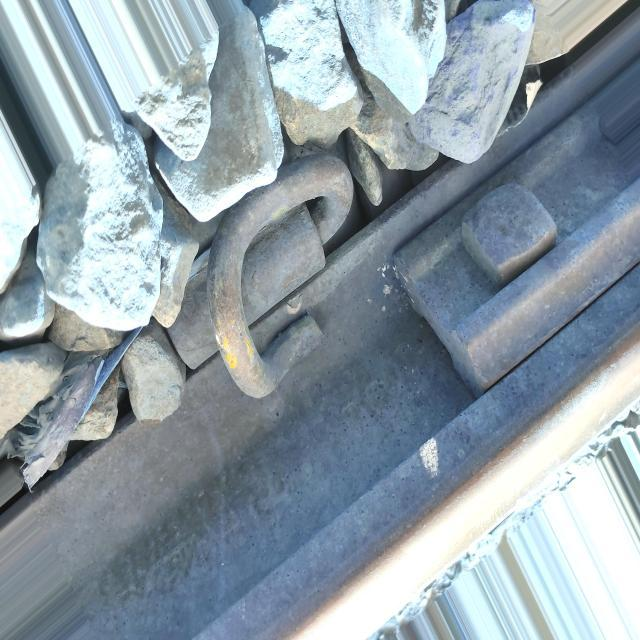Good Fasteners: (130, 144, 372, 439)
